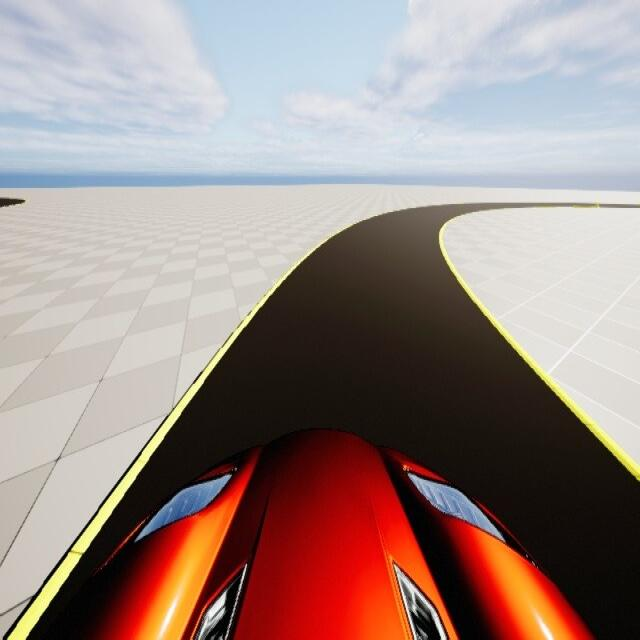lane: (64, 207, 639, 639)
